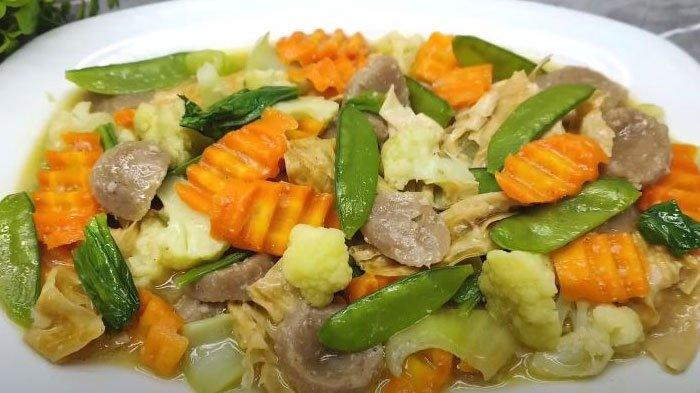buah_sayur_lainnya: (424, 279, 545, 377), (341, 122, 372, 212)
buah_sayur_vitA: (231, 187, 285, 247), (573, 243, 638, 288), (215, 136, 274, 179), (525, 145, 578, 189), (51, 157, 85, 224), (304, 37, 353, 78)
